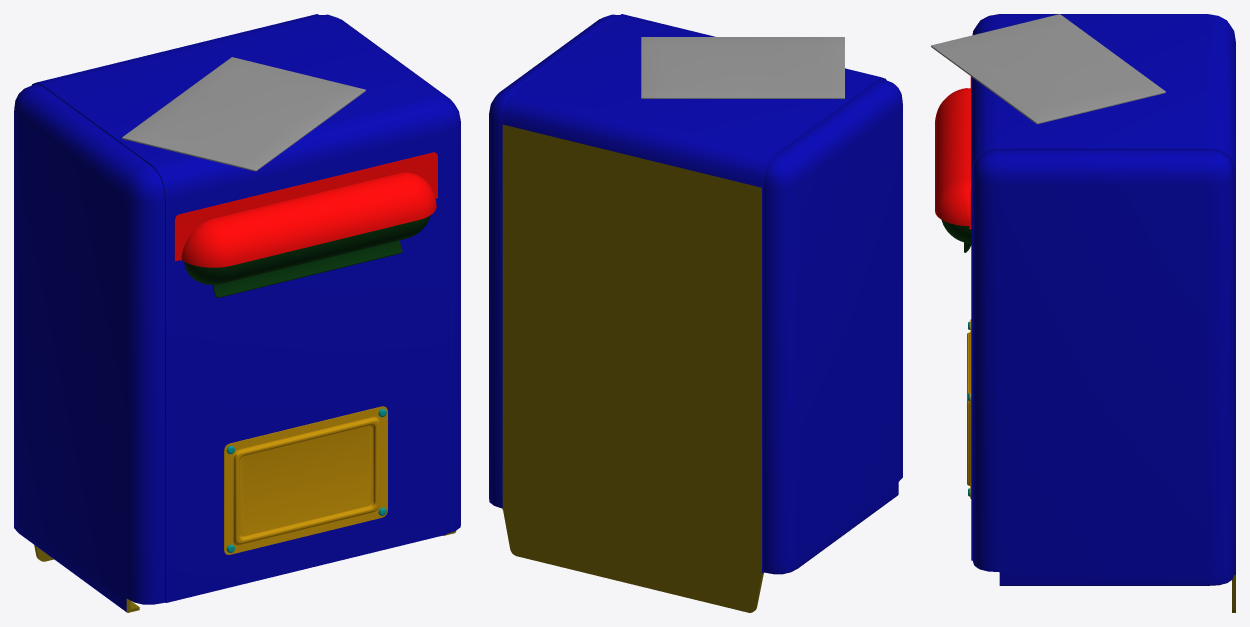
Rendered from postbox.fbx.
3 renders of one model, left to right at view 1: azimuth 30°, elevation 25°; view 2: azimuth 150°, elevation 25°; view 3: azimuth 270°, elevation 25°, orthographic. The views are drawn at different scales.
Parts seen in each view (by area): view 1: Box001, Box002, OilTank002, Box004, OilTank001; view 2: Object002, Box001, Box004; view 3: Box001, Box004, OilTank002, Box002, OilTank001.
Part boxes in pixels (x1,y1,x2,y2): Box001: [14, 14, 460, 612]; Box002: [224, 406, 387, 554]; OilTank002: [174, 152, 437, 267]; Box004: [122, 57, 365, 171]; OilTank001: [184, 215, 430, 297]; Object002: [502, 124, 763, 612]; Box001: [489, 14, 902, 574]; Box004: [641, 37, 844, 98]; Box001: [971, 14, 1235, 585]; Box004: [931, 14, 1165, 124]; OilTank002: [935, 76, 971, 229]; Box002: [967, 319, 971, 498]; OilTank001: [941, 220, 971, 252].
Bounding box in the file's own units: 280 × 401 × 233.
